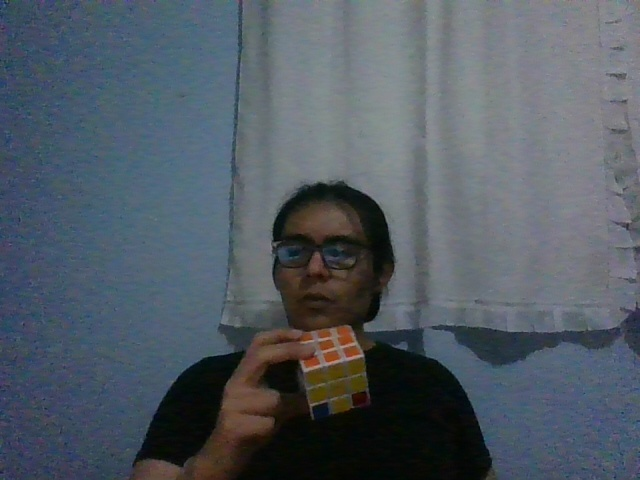rubik: (293, 324, 371, 422)
